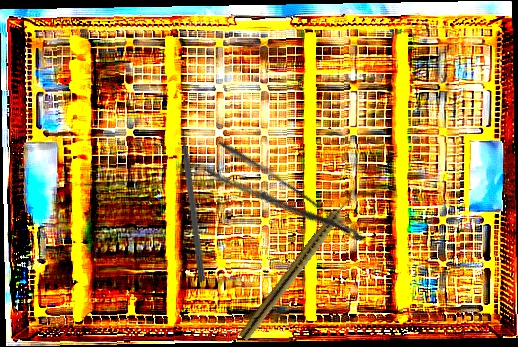Dressing Forceps: (199, 137, 369, 269)
Handpiece: (238, 193, 357, 344)
Pusher: (177, 114, 208, 283)
